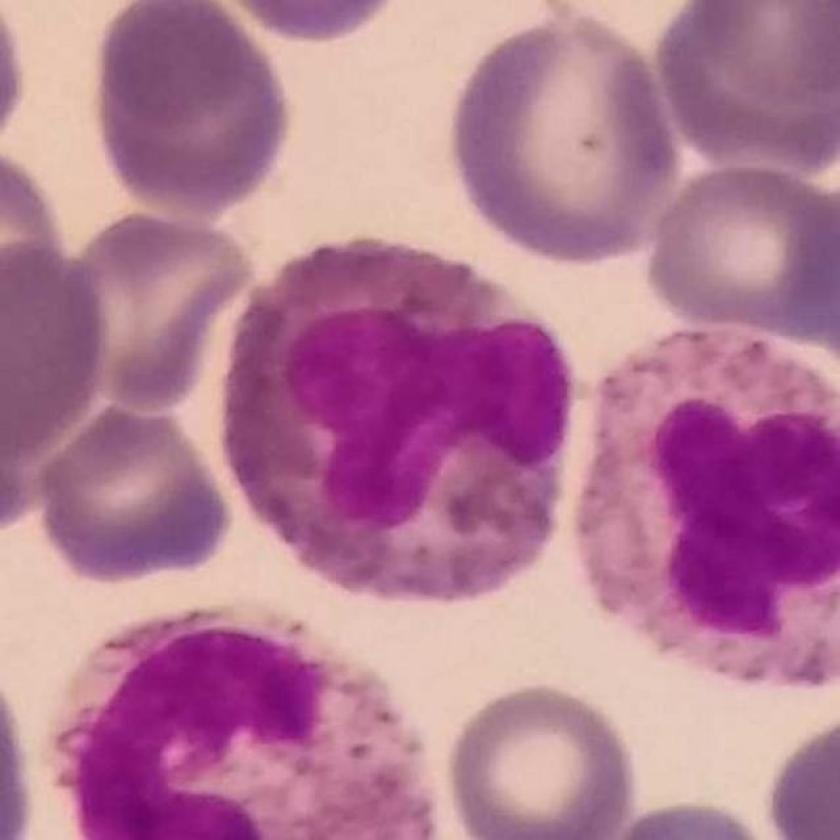eosinophil: (222, 235, 579, 617), (44, 593, 434, 840), (582, 323, 840, 689)
